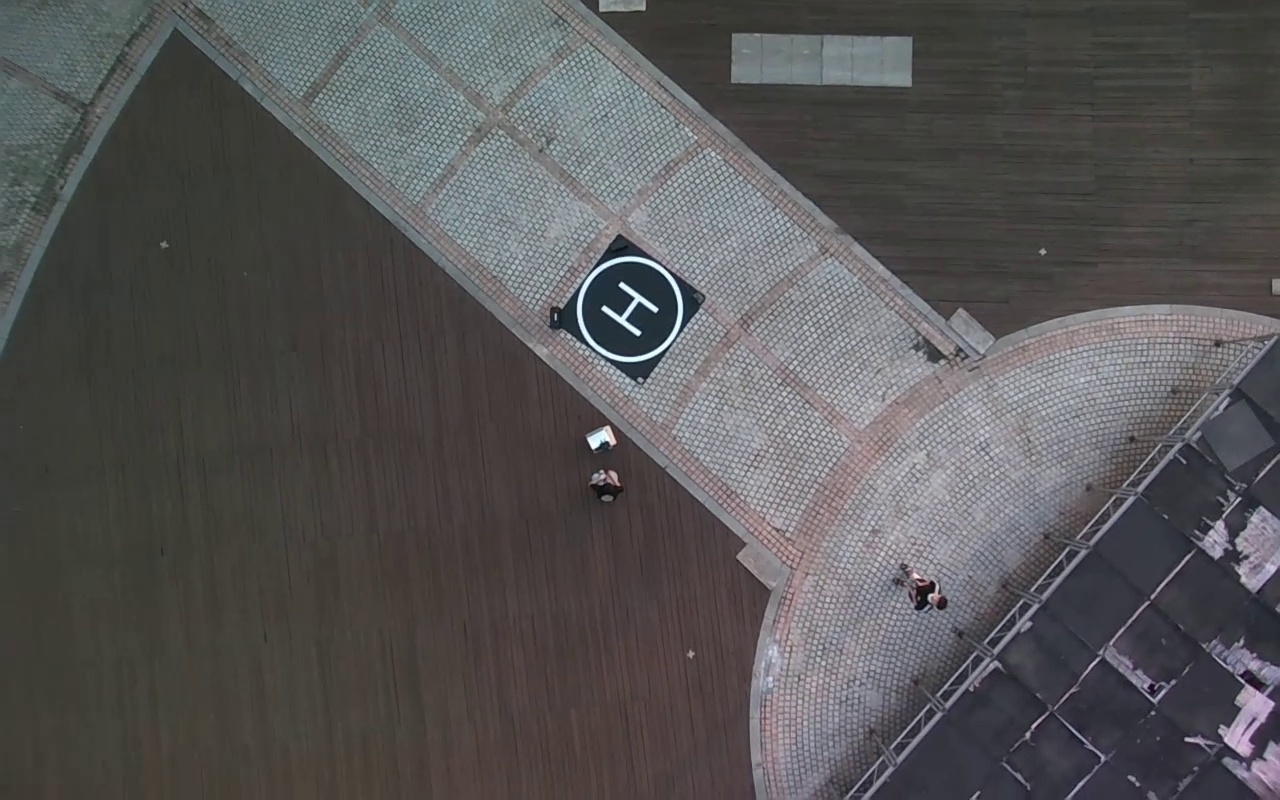H: (599, 279, 660, 337)
heliport: (576, 256, 687, 360)
